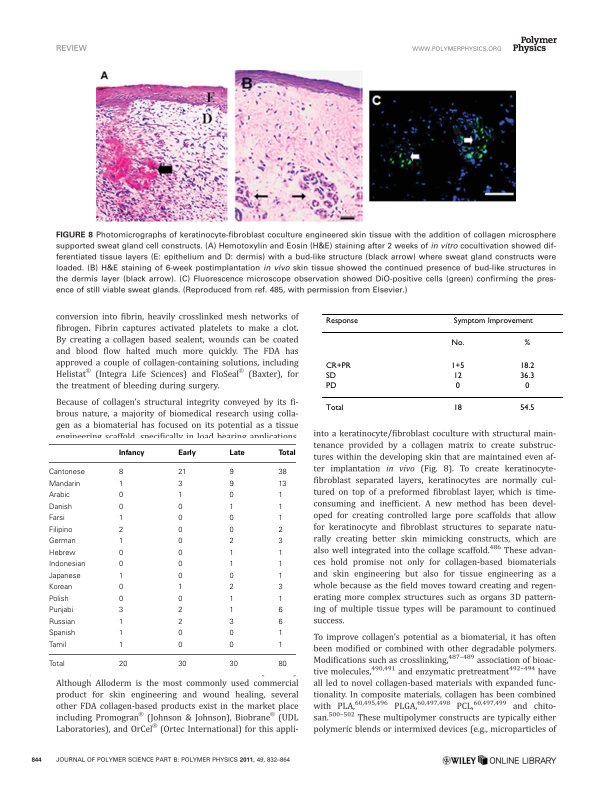borderless: (47, 443, 297, 669), (320, 312, 564, 421)
cell: (452, 317, 533, 326), (48, 560, 86, 569), (48, 468, 85, 477), (324, 317, 358, 326), (48, 480, 81, 489), (48, 572, 81, 581), (324, 361, 351, 371), (117, 449, 145, 458), (48, 537, 76, 546), (48, 549, 76, 558), (48, 618, 76, 627), (48, 629, 76, 638), (48, 606, 74, 615), (48, 526, 73, 535), (48, 583, 73, 592), (48, 503, 72, 512), (48, 491, 70, 500), (48, 595, 69, 604), (324, 404, 344, 413), (177, 449, 196, 458), (277, 449, 296, 458), (48, 641, 67, 650), (519, 361, 535, 371), (519, 371, 535, 381), (228, 449, 245, 458), (48, 514, 65, 523), (48, 660, 65, 669), (450, 361, 465, 371), (519, 404, 535, 413), (450, 339, 465, 348), (324, 371, 336, 381), (324, 382, 337, 391), (452, 371, 462, 381), (117, 660, 128, 669), (452, 404, 462, 413), (177, 468, 187, 477), (277, 468, 287, 477), (277, 480, 287, 489), (177, 660, 187, 669), (228, 660, 238, 669), (277, 660, 287, 669), (523, 339, 531, 348), (117, 468, 124, 477), (117, 480, 124, 489), (117, 491, 124, 500), (117, 503, 124, 512), (117, 514, 124, 523), (117, 526, 124, 535), (117, 537, 124, 546), (117, 549, 124, 558), (117, 560, 124, 569), (117, 572, 124, 581), (117, 583, 124, 592), (117, 595, 124, 604), (117, 606, 124, 615), (117, 618, 124, 627), (117, 629, 124, 638), (117, 641, 124, 650), (454, 382, 460, 391), (524, 382, 530, 391), (228, 468, 234, 477), (177, 480, 183, 489), (228, 480, 234, 489), (177, 491, 183, 500), (228, 491, 234, 500), (277, 491, 283, 500), (177, 503, 183, 512), (228, 503, 234, 512), (277, 503, 283, 512), (177, 514, 183, 523), (228, 514, 234, 523), (277, 514, 283, 523), (177, 526, 183, 535), (228, 526, 234, 535), (277, 526, 283, 535), (177, 537, 183, 546), (228, 537, 234, 546), (277, 537, 283, 546), (177, 549, 183, 558), (228, 549, 234, 558), (277, 549, 283, 558), (177, 560, 183, 569), (228, 560, 234, 569), (277, 560, 283, 569), (177, 572, 183, 581), (228, 572, 234, 581), (277, 572, 283, 581), (177, 583, 183, 592), (228, 583, 234, 592), (277, 583, 283, 592), (177, 595, 183, 604), (228, 595, 234, 604), (277, 595, 283, 604), (177, 606, 183, 615), (228, 606, 234, 615), (277, 606, 283, 615), (177, 618, 183, 627), (228, 618, 234, 627), (277, 618, 283, 627), (177, 629, 183, 638), (228, 629, 234, 638), (277, 629, 283, 638), (177, 641, 183, 650), (228, 641, 234, 650), (277, 641, 283, 650)
